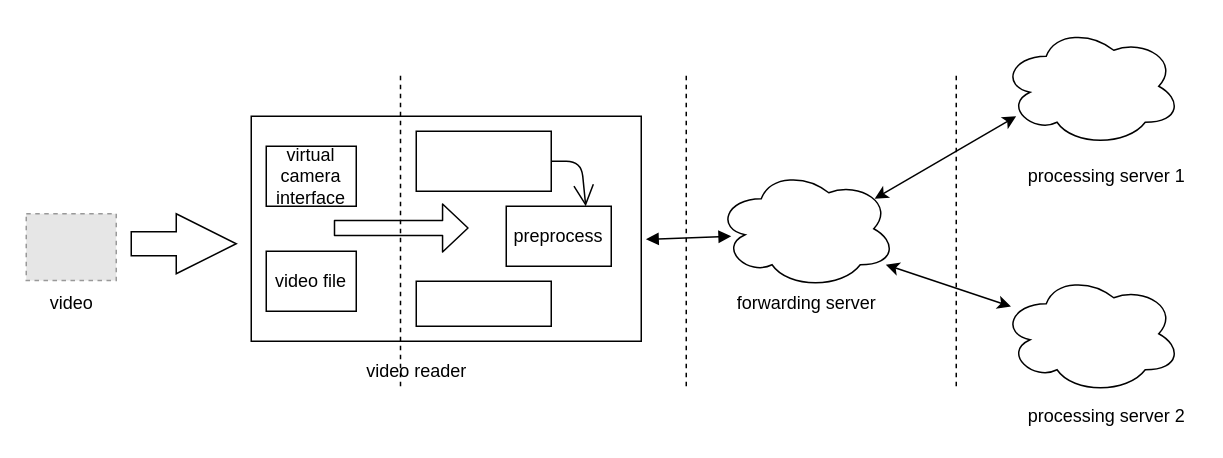
This 1223x458 diagram has some shape labels left out. Grey dashed boxes stand in for pictures. Each missing label, with the centre of its shape:
"decision engine" belongs at point (483, 160).
"other modules" belongs at point (483, 303).
